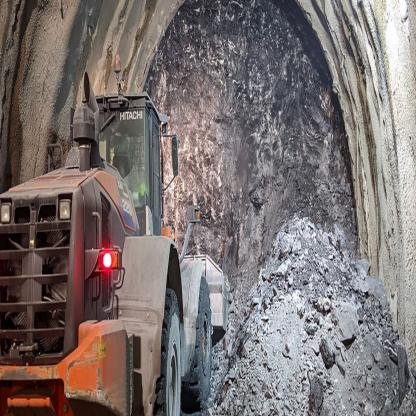bull_dozer/loader/grader: (4, 43, 228, 415)
